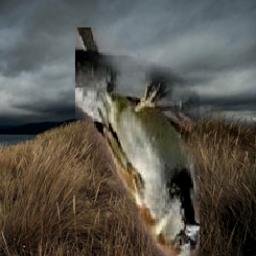Sparrow: (76, 27, 201, 256)
